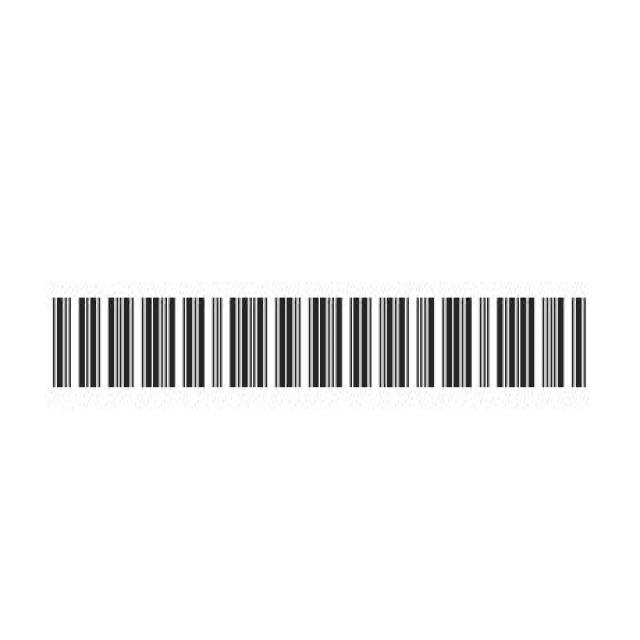Barkod: (47, 278, 594, 402)
